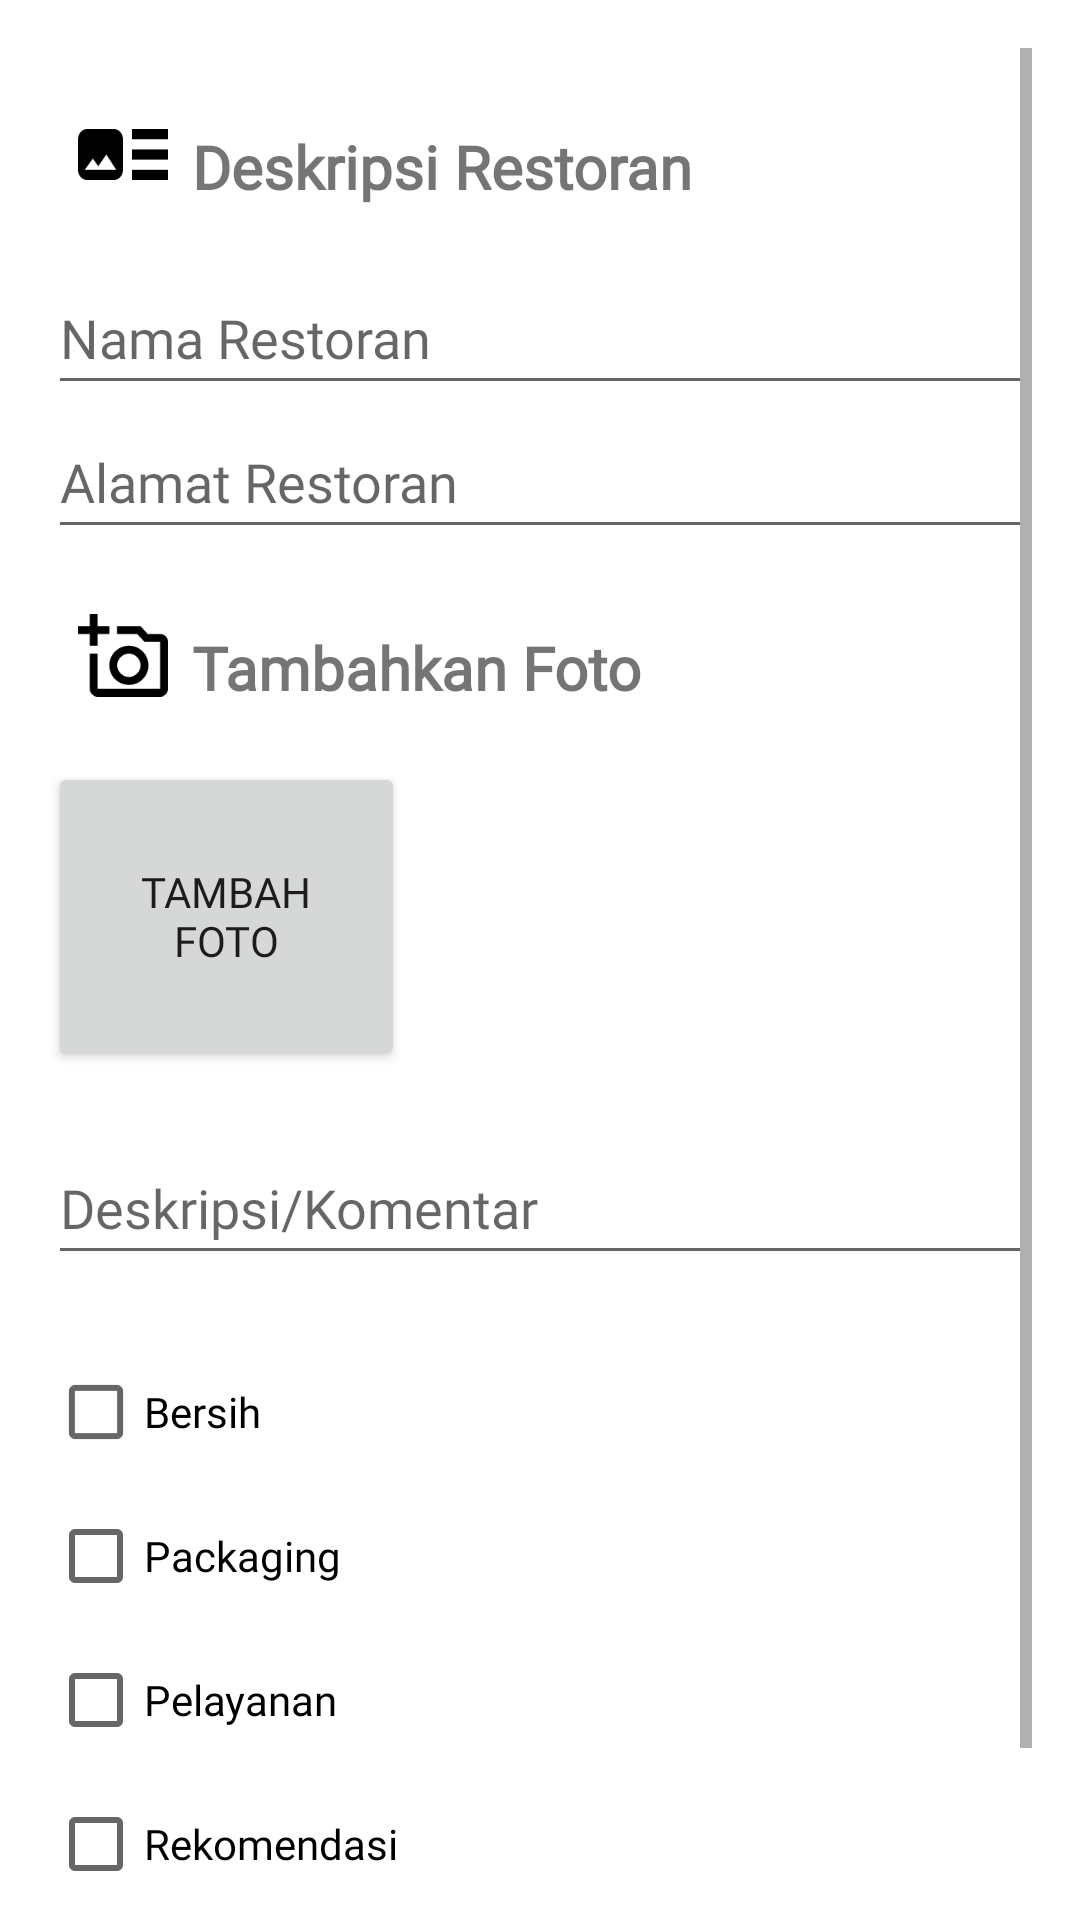

Point at icon controls on the screen. Image size 1080x1920, points as [x,y].
addphoto: [123,655]
description: [123,154]
